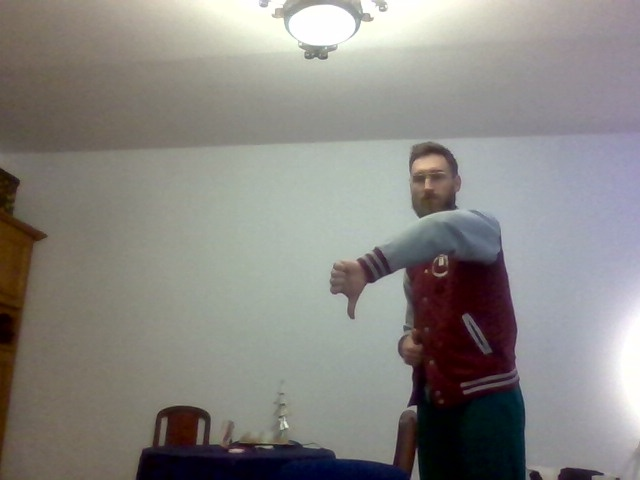ThumbsDown: (329, 260, 362, 320)
